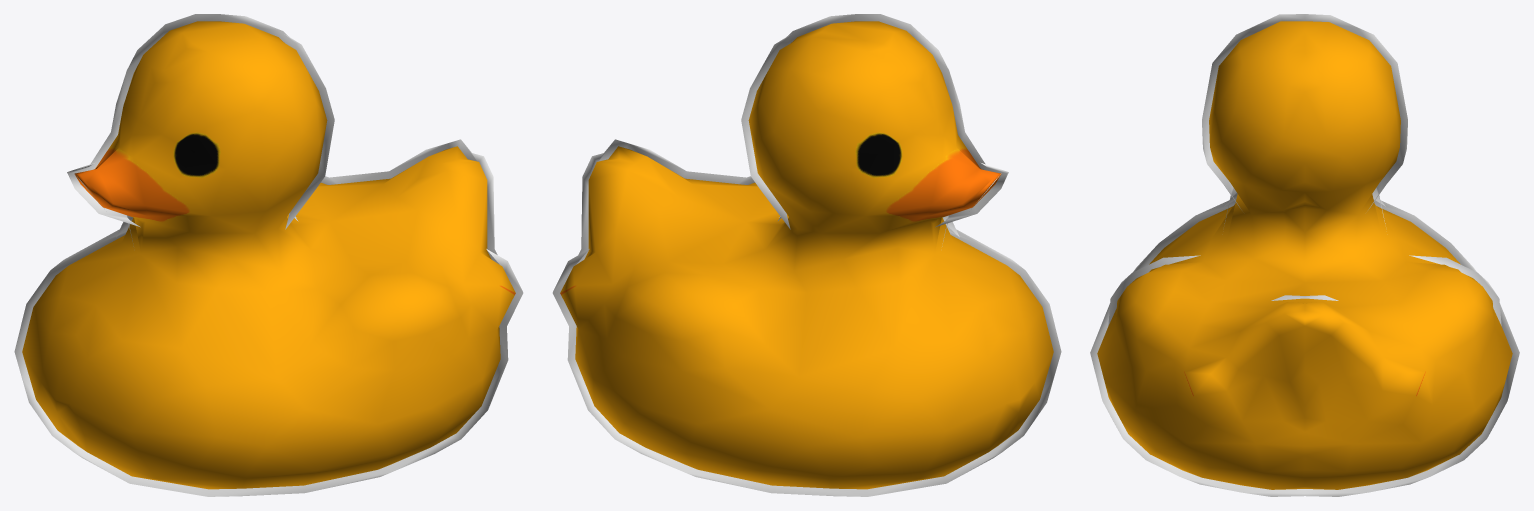
Rendered from bobby.gltf.
3 views of the same model, side by side, from view 1: azimuth 30°, elevation 25°; view 2: azimuth 150°, elevation 25°; view 3: azimuth 270°, elevation 25° (orthographic). The views are drawn at different scales.
Parts seen in each view (by area): view 1: Bobby; view 2: Bobby; view 3: Bobby.
Part boxes in pixels (x1,y1,x2,y2): Bobby: [14, 14, 523, 496]; Bobby: [552, 14, 1061, 496]; Bobby: [1090, 14, 1519, 496].
Size of the model in its own units: 1.93 by 1.75 by 1.79.
2 materials, 1 textured.
